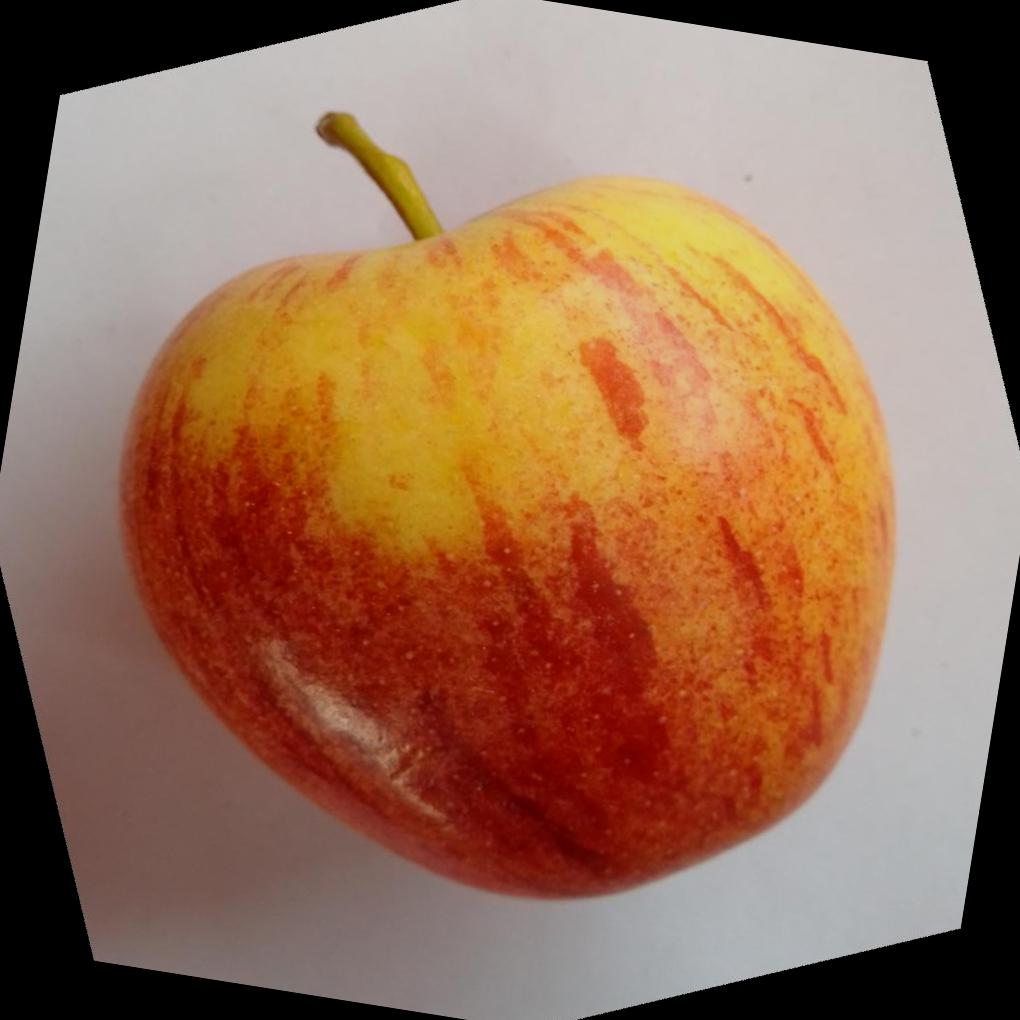FreshGuava: (118, 127, 899, 903)
